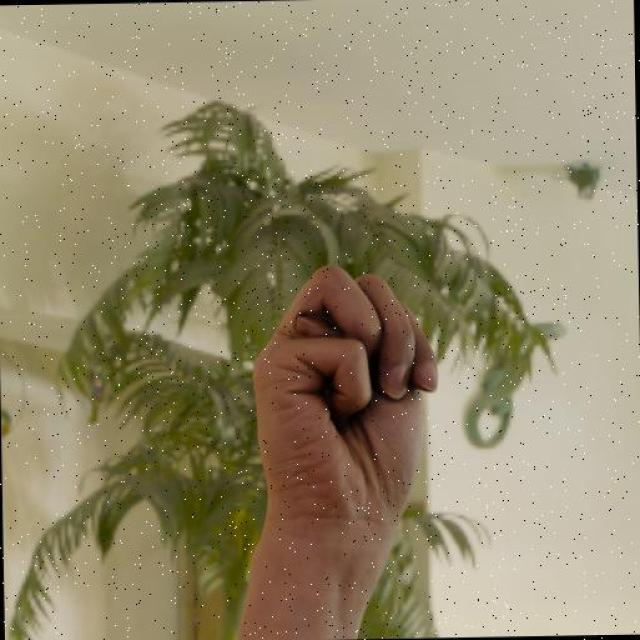M: (246, 259, 444, 541)
